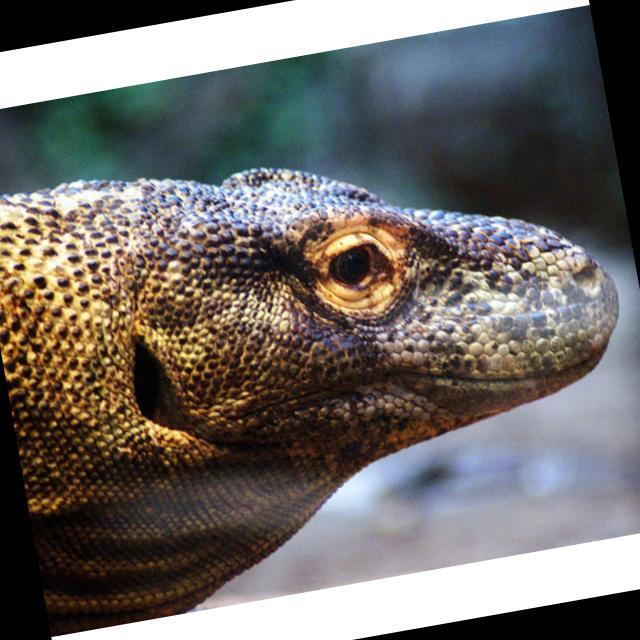KomodoDragon: (0, 86, 640, 633)
